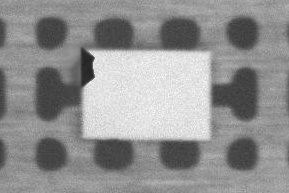DIE_BROKEN: (117, 31, 145, 61)
